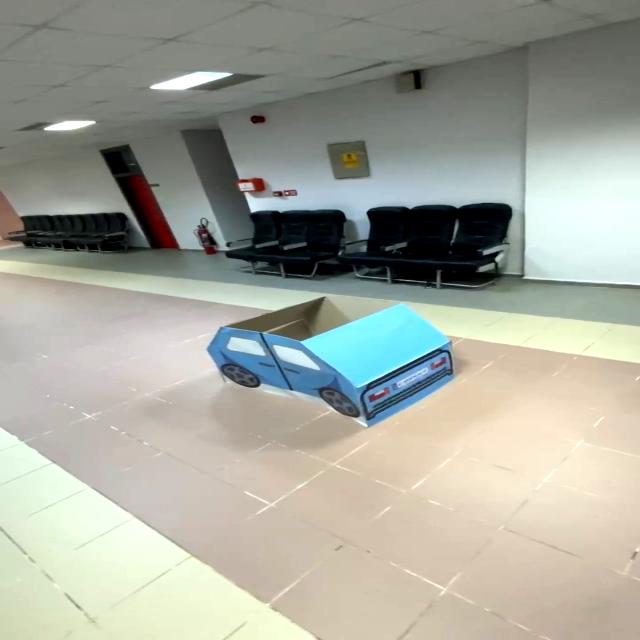blue_car: (180, 282, 482, 431)
